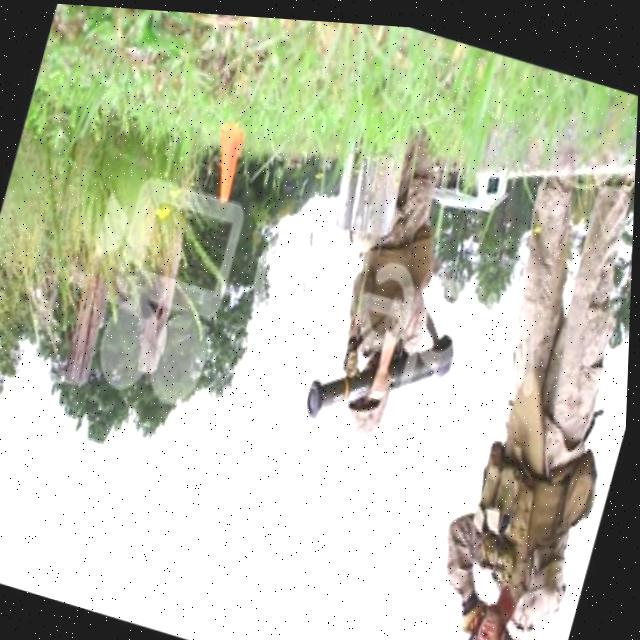rocket: (304, 297, 462, 448)
